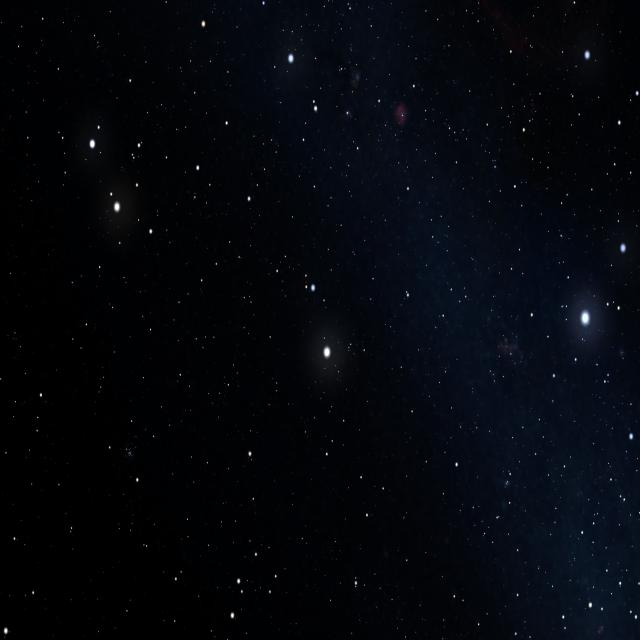Canis Minor: (293, 261, 346, 373)
